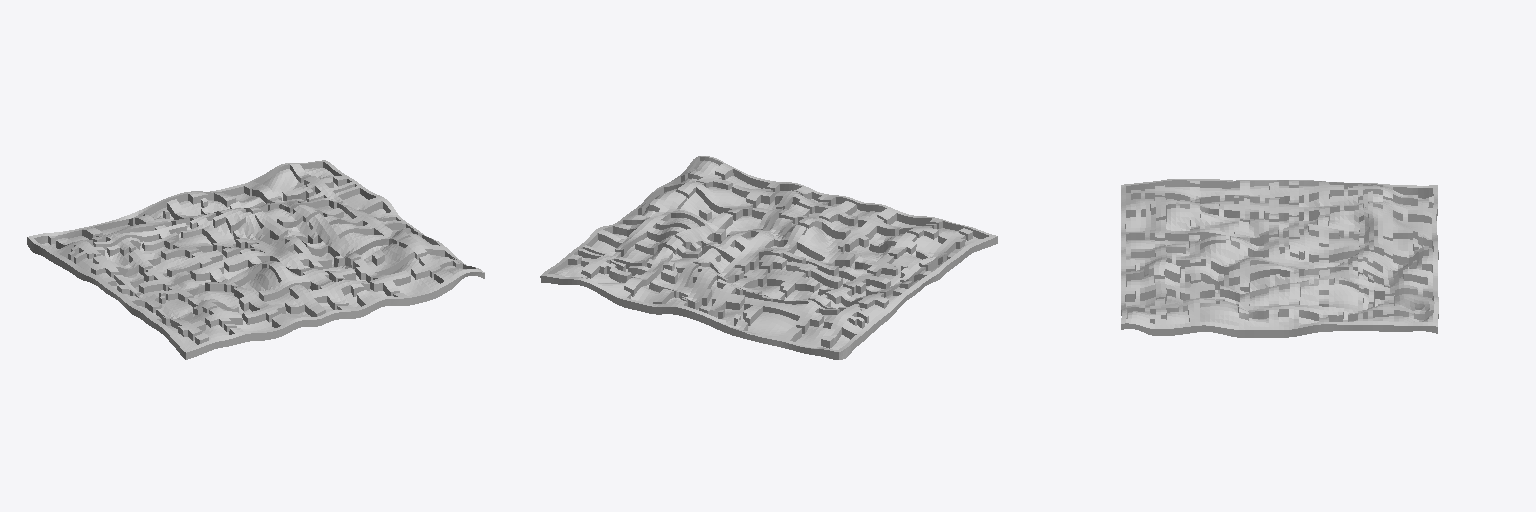
The model's file is def1backrooms.obj.
3 views of the same model, side by side, from view 1: azimuth 30°, elevation 25°; view 2: azimuth 150°, elevation 25°; view 3: azimuth 270°, elevation 25° (orthographic).
Parts seen in each view (by area): view 1: Plane; view 2: Plane; view 3: Plane.
Part boxes in pixels (x1,y1,x2,y2): Plane: (27, 160, 484, 359); Plane: (540, 156, 997, 359); Plane: (1121, 179, 1438, 337).
Size of the model in its own units: 264 by 26.26 by 242.